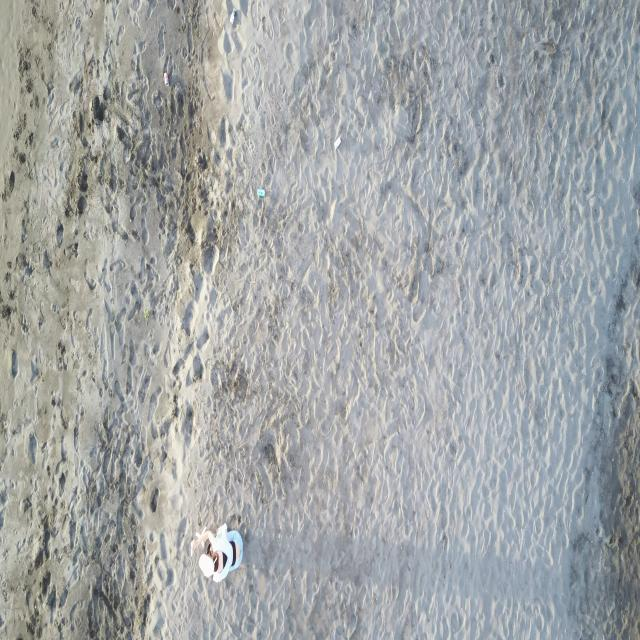tin-and-aluminum-cans: (229, 6, 237, 24), (334, 135, 342, 150), (163, 71, 170, 87), (257, 186, 265, 198)
